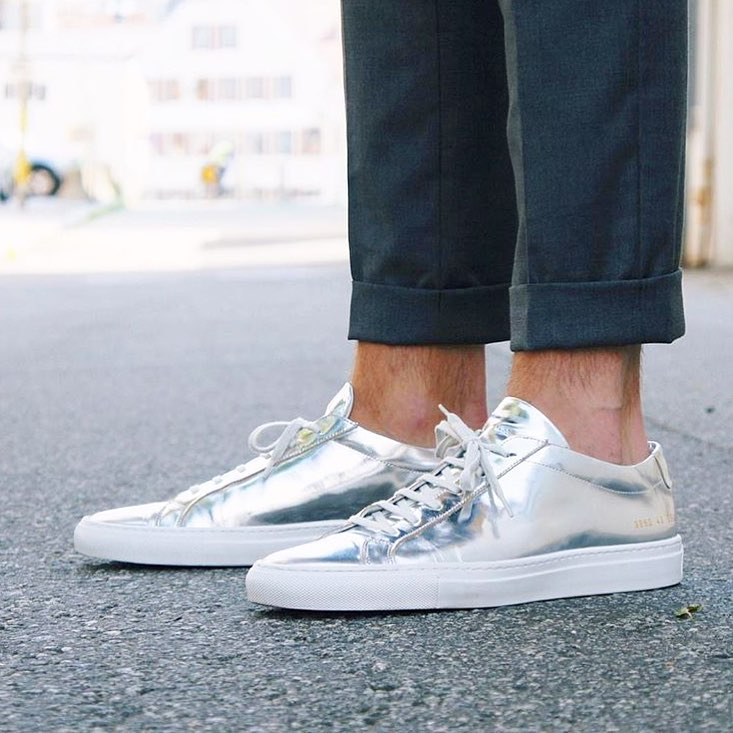sneaker: (235, 316, 708, 628), (50, 306, 513, 592)
